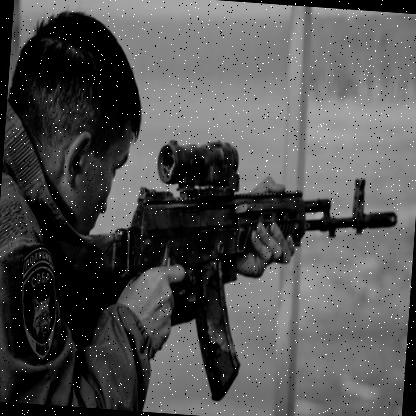rifle: (25, 127, 406, 412)
